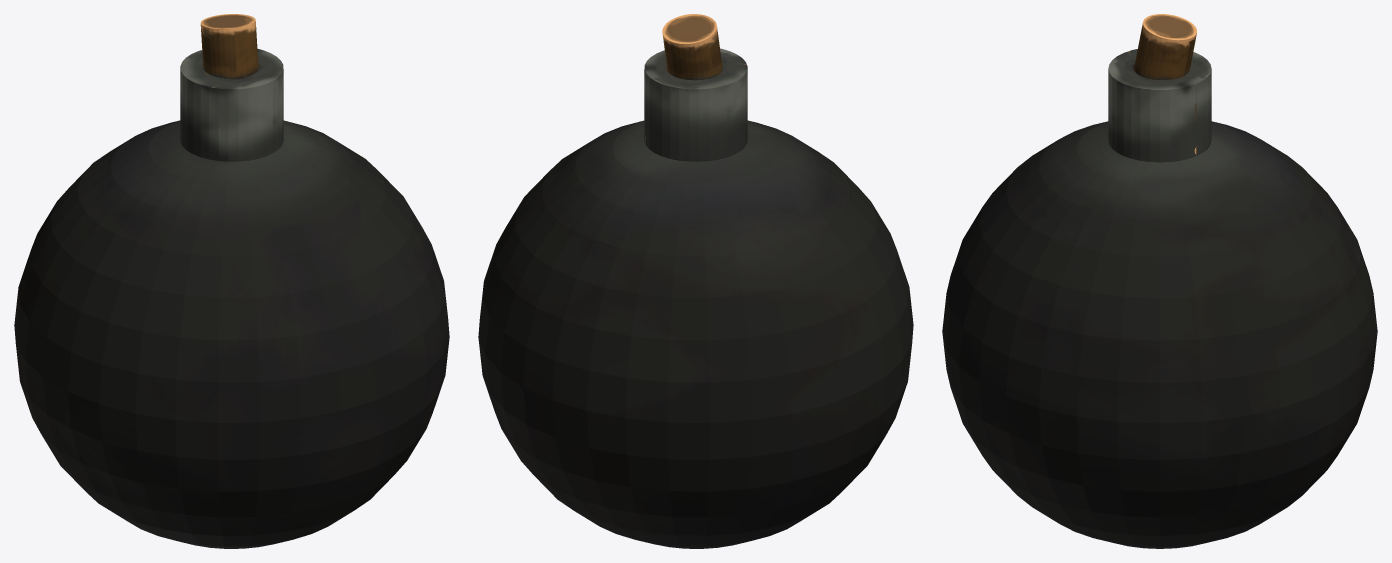
File: bomb.fbx
The picture shows the model from 3 angles, left to right: view 1: azimuth 30°, elevation 25°; view 2: azimuth 150°, elevation 25°; view 3: azimuth 270°, elevation 25°; orthographic projection.
Parts seen in each view (by area): view 1: Cylinder; view 2: Cylinder; view 3: Cylinder.
Part boxes in pixels (x1,y1,x2,y2): Cylinder: [14, 14, 449, 548]; Cylinder: [478, 14, 913, 548]; Cylinder: [942, 14, 1377, 548].
Size of the model in its own units: 200 by 200 by 257.
1 material, 1 textured.
